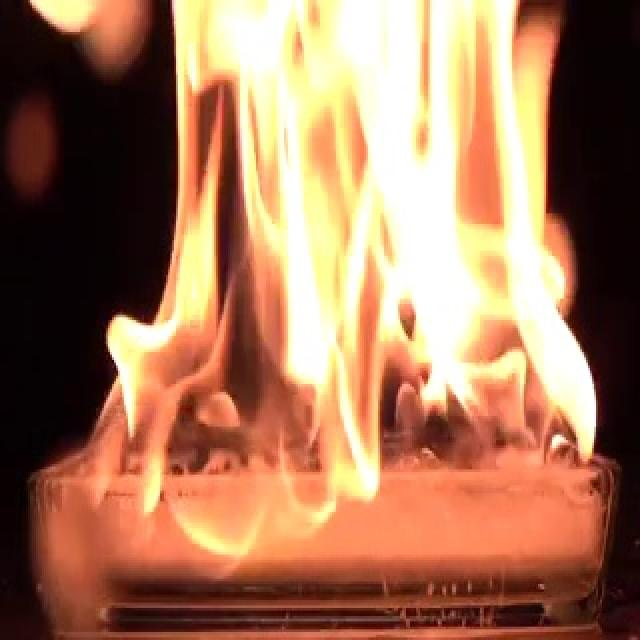fire: (75, 0, 607, 564)
